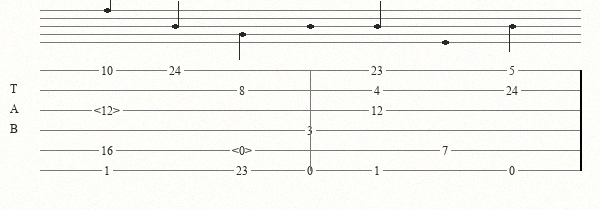0: (307, 164, 317, 177), (509, 164, 519, 177)
1: (104, 164, 114, 177), (374, 164, 384, 177)
10: (101, 64, 117, 77)
12: (371, 104, 387, 117)
16: (101, 144, 117, 157)
23: (236, 164, 252, 177), (371, 64, 387, 77)
24: (169, 64, 185, 77), (506, 84, 522, 97)
3: (307, 124, 317, 137)
4: (374, 84, 384, 97)
5: (509, 64, 519, 77)
7: (442, 144, 452, 157)
8: (239, 84, 249, 97)
harmonic: (94, 104, 124, 117), (232, 144, 256, 157)
